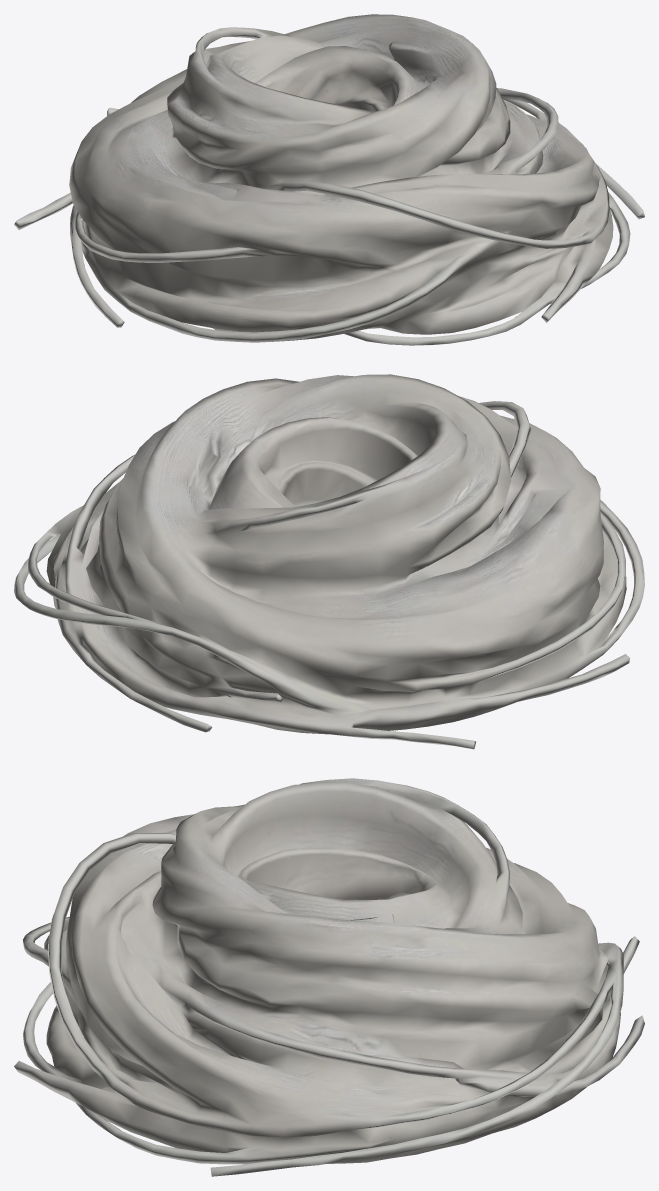
The picture shows the model from 3 angles, top to bottom: view 1: azimuth 30°, elevation 25°; view 2: azimuth 150°, elevation 25°; view 3: azimuth 270°, elevation 25°; orthographic projection. The views are drawn at different scales.
Parts seen in each view (by area): view 1: Glass Noodles; view 2: Glass Noodles; view 3: Glass Noodles.
Part boxes in pixels (bbox=[...]): Glass Noodles: bbox=[14, 14, 644, 345]; Glass Noodles: bbox=[14, 374, 644, 749]; Glass Noodles: bbox=[14, 778, 644, 1176].
Bounding box in the file's own units: 0.998 × 0.3613 × 0.9785.
1 material, 1 textured.
